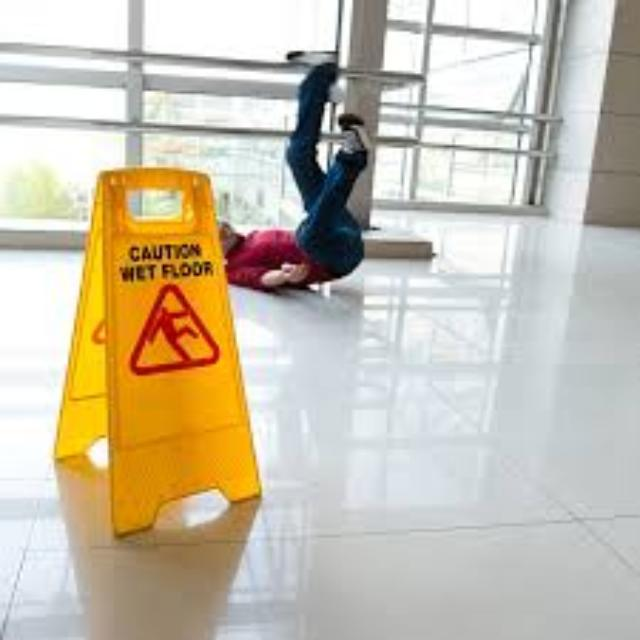tron truot: (54, 168, 259, 532)
